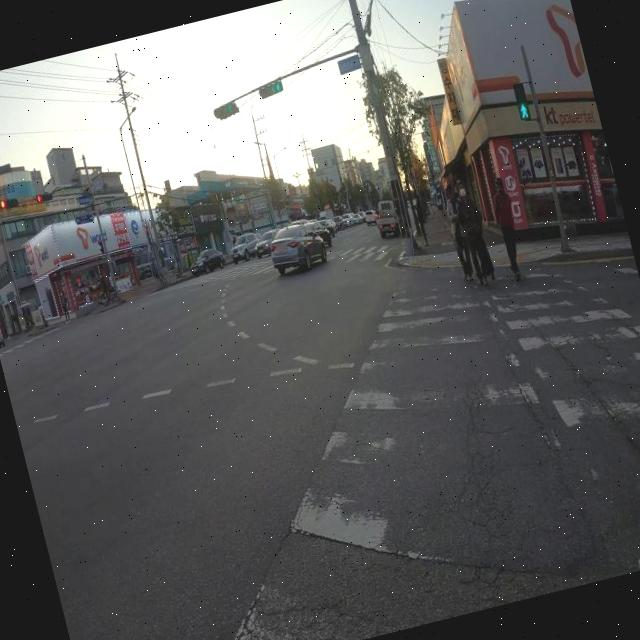crosswalk: (236, 263, 640, 640), (151, 243, 401, 293), (0, 327, 60, 356)
